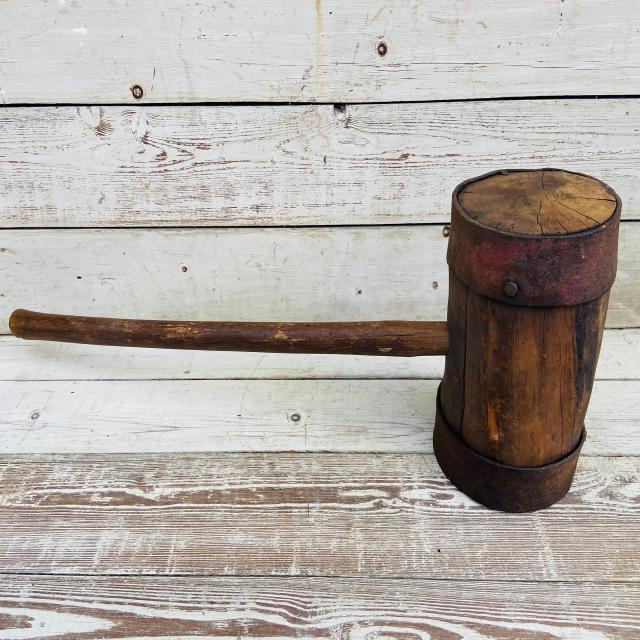hammer: (4, 160, 628, 520)
